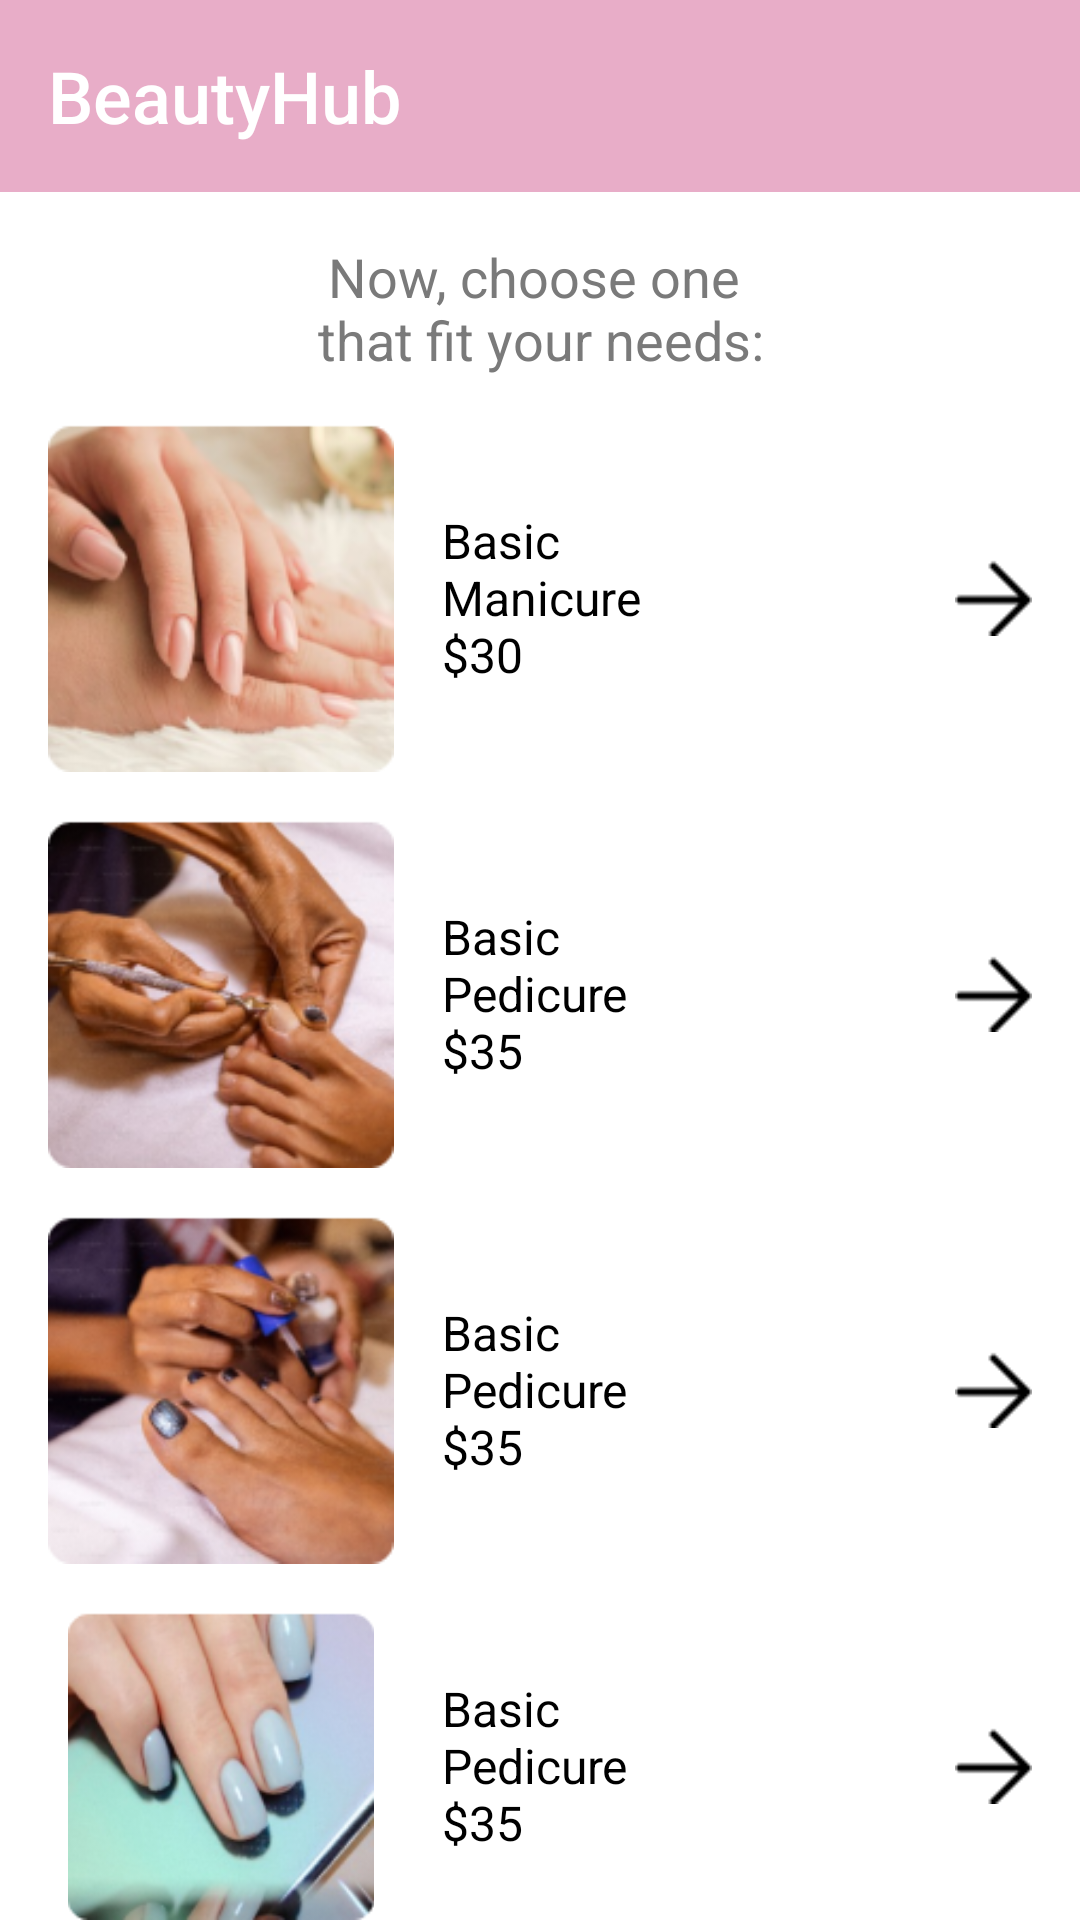

Point at icon controls on the screen. Image size 1080 x 1920, points as (x,y).
gel manicure: (221,1766)
gel pedicure: (221,1390)
